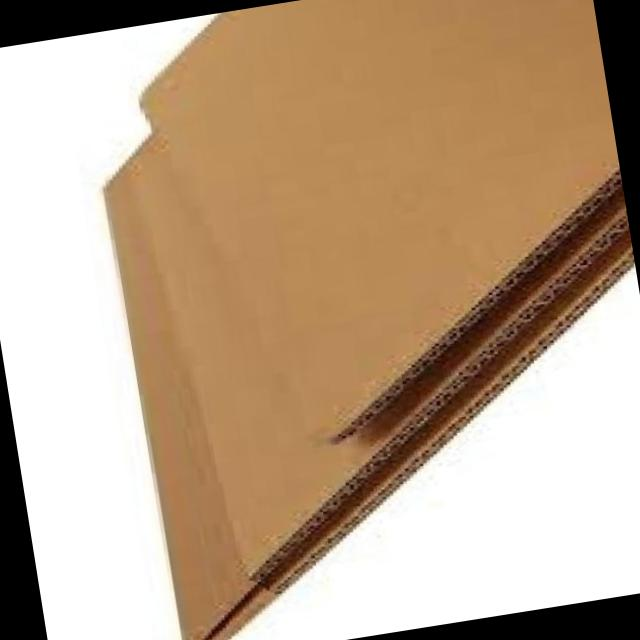cardboard paper: (107, 0, 635, 640)
